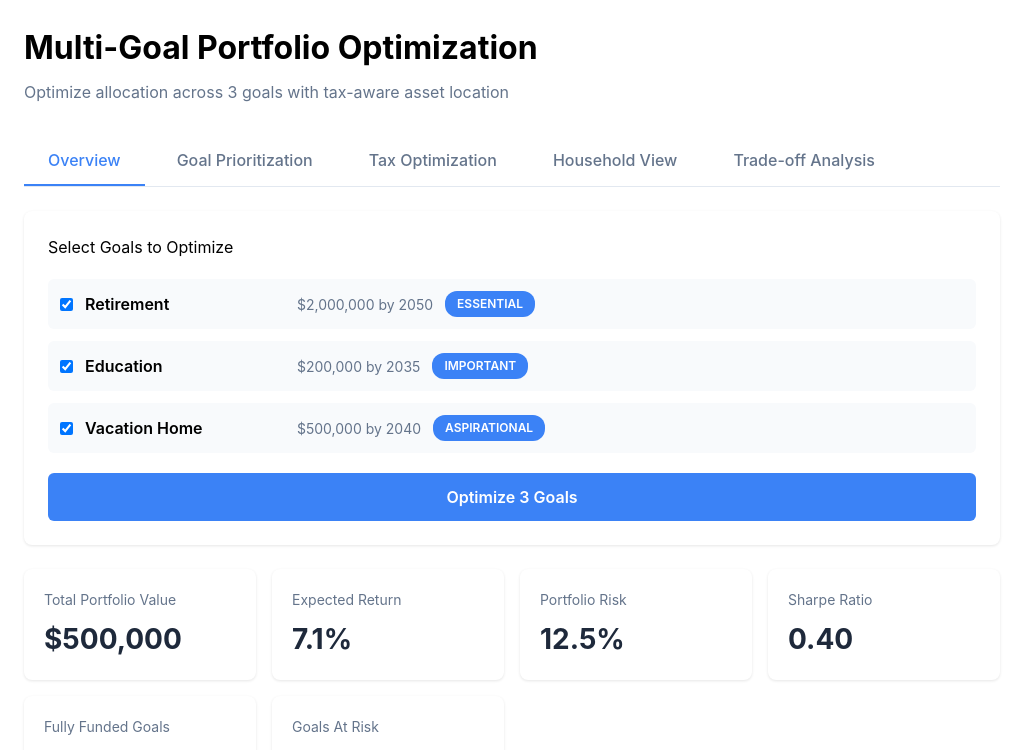
Test: MultiGoalOptimizationDashboard › switches between tabs
The image size is (1024, 750).
Expected: the text "Total Portfolio Value" is shown, [44, 591, 176, 608]
# Click on prioritization tab
What coordinates should you click on to do the following:
click the button "Goal Prioritization"
I would click on:
 (245, 161)
Its box is [153, 136, 337, 186].
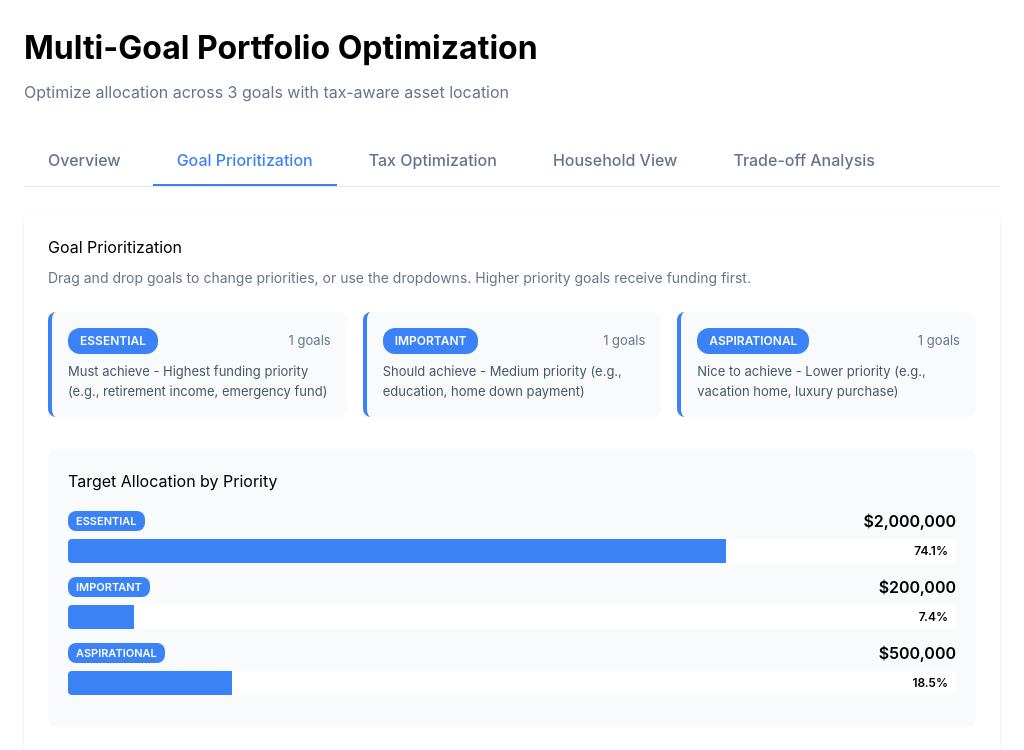
Result: the text "Drag and drop goals" is shown at [48, 269, 751, 286]
